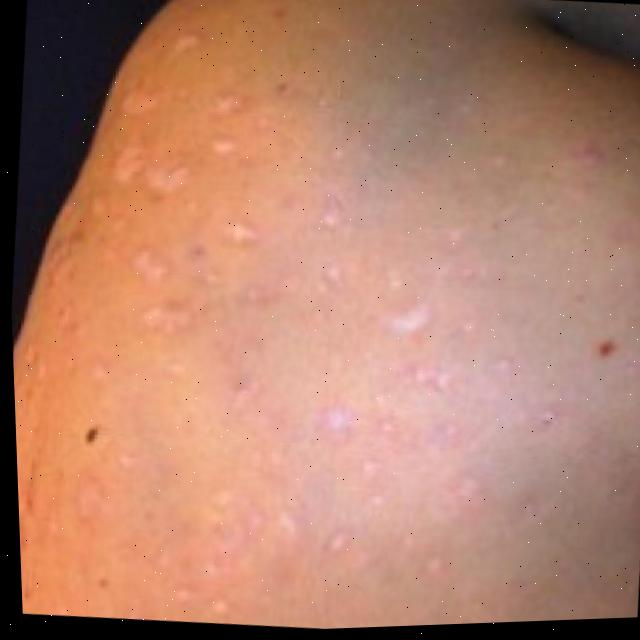Acne: (25, 0, 640, 587)
